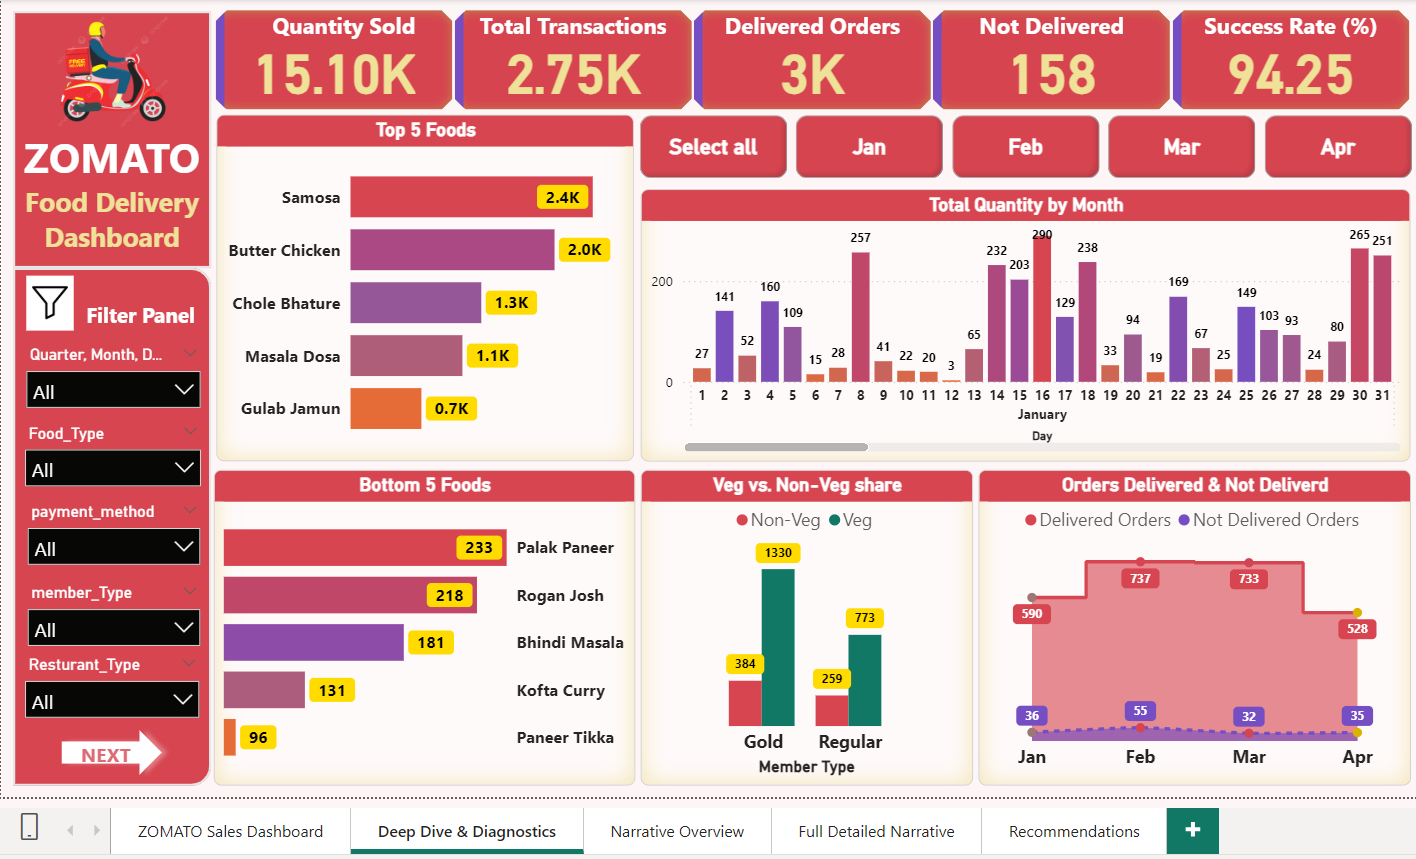

The dashboard page shown, as its layout file describes it:
{"tool":"powerbi","page":{"name":"Deep Dive & Diagnostics","canvas":[1280,720],"ordinal":1},"visuals":[{"type":"clusteredBarChart","title":"Top 5 Foods","fields":{"Category":["Food_Details.Food"],"Y":["Sales Data.Total_Quantity"]},"box":[195.1,104.9,377,313.1],"z":0},{"type":"clusteredColumnChart","title":"Total Quantity by Month","fields":{"Category":["Calendar.Date.Variation.Date Hierarchy.Month","Calendar.Date.Variation.Date Hierarchy.Day"],"Y":["Sales Data.Total_Quantity"]},"box":[577,172.1,695.1,245.9],"z":1000},{"type":"clusteredBarChart","title":"Bottom 5 Foods","fields":{"Category":["Food_Details.Food"],"Y":["Sales Data.Total_Quantity"]},"box":[191.8,424.6,380.3,285.2],"z":2000},{"type":"advancedSlicerVisual","fields":{"Values":["Calendar.Month Name"]},"box":[571.5,99.6,708.3,67.2],"z":3000},{"type":"image","box":[96.9,660.1,53.7,53.7],"z":4000},{"type":"cardVisual","fields":{"Data":["Sales Data.Total_Quantity","Sales Data.Total_Transactions","Sales Data.Delivered Orders","Sales Data.Not Delivered Orders","Sales Data.Delivery Success Rate (%)"]},"box":[188.5,4.9,1091.8,100],"z":5000},{"type":"shape","box":[10.6,242.8,179,467.8],"z":6000},{"type":"shape","box":[10.6,10.6,179,232.1],"z":7000},{"type":"image","box":[14.2,3.5,173.6,124],"z":8000},{"type":"slicer","fields":{"Values":["Calendar.Date.Variation.Date Hierarchy.Quarter","Calendar.Date.Variation.Date Hierarchy.Month","Calendar.Date.Variation.Date Hierarchy.Day"]},"box":[12.9,307.6,176.8,66.1],"z":9000},{"type":"slicer","fields":{"Values":["Food_Details.Food"]},"box":[11.5,378.1,178.2,66.1],"z":10000},{"type":"slicer","fields":{"Values":["Sales Data.payment_method"]},"box":[14.4,448.5,175.4,66.1],"z":11000},{"type":"image","box":[23,249.8,42.5,49.6],"z":12000},{"type":"slicer","fields":{"Values":["Resturant_Details.Resturant_Name"]},"box":[11.5,586.5,176.8,66.1],"z":13000},{"type":"slicer","fields":{"Values":["Customer Details.member_Type"]},"box":[14.4,521.8,175.4,67.6],"z":14000},{"type":"shape","box":[45.8,651,108.7,58.9],"z":15000},{"type":"textbox","box":[72.1,263.9,127.9,47.5],"z":16000},{"type":"textbox","box":[0,111.3,200.4,158.5],"z":17000},{"type":"clusteredColumnChart","title":"Veg vs. Non-Veg share","fields":{"Category":["Customer Details.member_Type"],"Y":["Sales Data.Total_Transactions"],"Series":["Food_Details.Veg_NonVeg"]},"box":[577,424.6,300,285.2],"z":18000},{"type":"lineChart","title":"Orders Delivered & Not Deliverd","fields":{"Category":["Calendar.Month Name"],"Y":["Sales Data.Delivered Orders","Sales Data.Not Delivered Orders"]},"box":[882,424.6,390.2,285.2],"z":19000}]}

Visuals, with their boxes on the page's 1280x720 design canvas (x1, y1, x2, y2). These are canvas units, not pixel positions in the 1416x859 screenshot, which may show the page scaled, cropped or inside an application window:
"Top 5 Foods" clusteredBarChart: left=195, top=105, right=572, bottom=418
"Total Quantity by Month" clusteredColumnChart: left=577, top=172, right=1272, bottom=418
"Bottom 5 Foods" clusteredBarChart: left=192, top=425, right=572, bottom=710
advancedSlicerVisual - Calendar.Month Name: left=572, top=100, right=1280, bottom=167
image: left=97, top=660, right=151, bottom=714
cardVisual - Sales Data.Total_Quantity x Sales Data.Total_Transactions: left=188, top=5, right=1280, bottom=105
shape: left=11, top=243, right=190, bottom=711
shape: left=11, top=11, right=190, bottom=243
image: left=14, top=4, right=188, bottom=128
slicer - Calendar.Date.Variation.Date Hierarchy.Quarter x Calendar.Date.Variation.Date Hierarchy.Month: left=13, top=308, right=190, bottom=374
slicer - Food_Details.Food: left=12, top=378, right=190, bottom=444
slicer - Sales Data.payment_method: left=14, top=448, right=190, bottom=515
image: left=23, top=250, right=66, bottom=299
slicer - Resturant_Details.Resturant_Name: left=12, top=586, right=188, bottom=653
slicer - Customer Details.member_Type: left=14, top=522, right=190, bottom=589
shape: left=46, top=651, right=154, bottom=710
textbox: left=72, top=264, right=200, bottom=311
textbox: left=0, top=111, right=200, bottom=270
"Veg vs. Non-Veg share" clusteredColumnChart: left=577, top=425, right=877, bottom=710
"Orders Delivered & Not Deliverd" lineChart: left=882, top=425, right=1272, bottom=710
